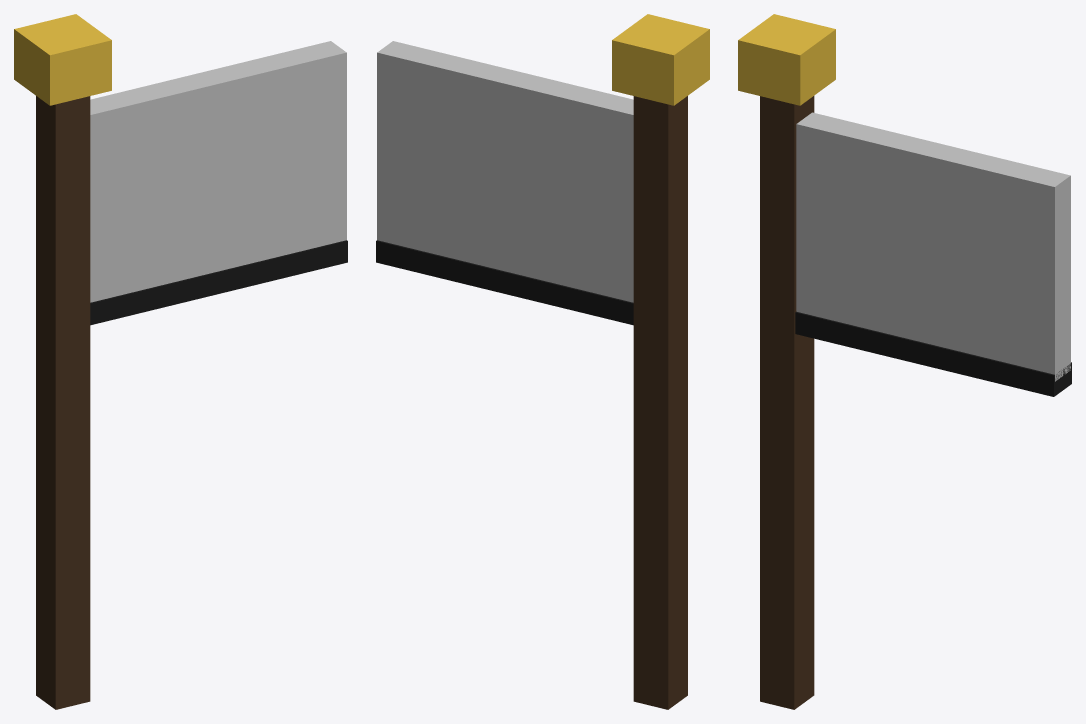
Rendered from flag_6.glb.
3 renders of one model, left to right at view 1: azimuth 30°, elevation 25°; view 2: azimuth 150°, elevation 25°; view 3: azimuth 330°, elevation 25°, orthographic.
Bounding box in the file's own units: 0.89 × 1.84 × 0.18.
1 material, 1 textured.
